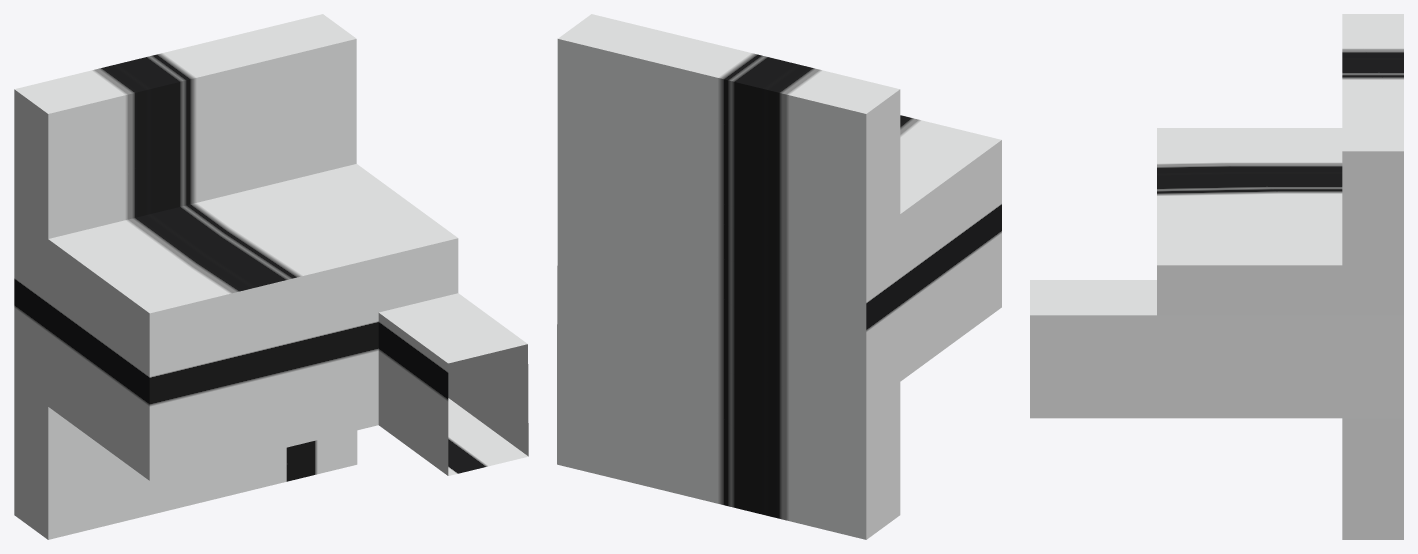
Rendered from Grey1.FBX.
The picture shows the model from 3 angles, left to right: view 1: azimuth 30°, elevation 25°; view 2: azimuth 150°, elevation 25°; view 3: azimuth 270°, elevation 25°; orthographic projection. The views are drawn at different scales.
Visible parts, largest first — view 1: Object118; view 2: Object118; view 3: Object118.
Boxes of the visible parts, bbox=[...] form: Object118: bbox=[14, 14, 528, 539]; Object118: bbox=[557, 14, 1001, 539]; Object118: bbox=[1030, 14, 1403, 539].
Size of the model in its own units: 16.88 by 22.22 by 19.39.
